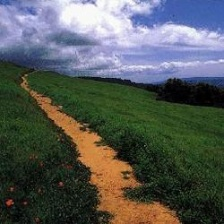neutral: (3, 2, 222, 222)
